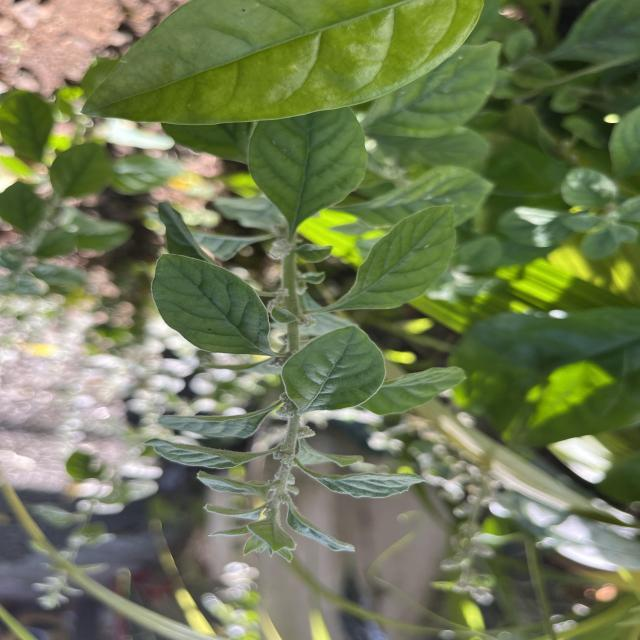Aerva lanata: (146, 250, 274, 360), (279, 322, 390, 415)
